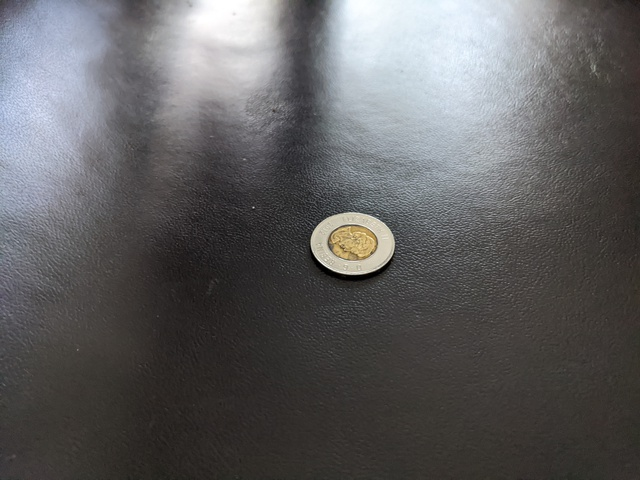twonie: (302, 204, 403, 279)
